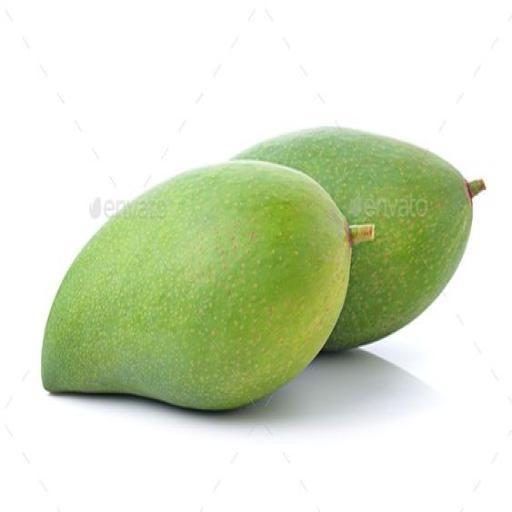mango: (42, 161, 371, 409), (236, 128, 484, 351)
